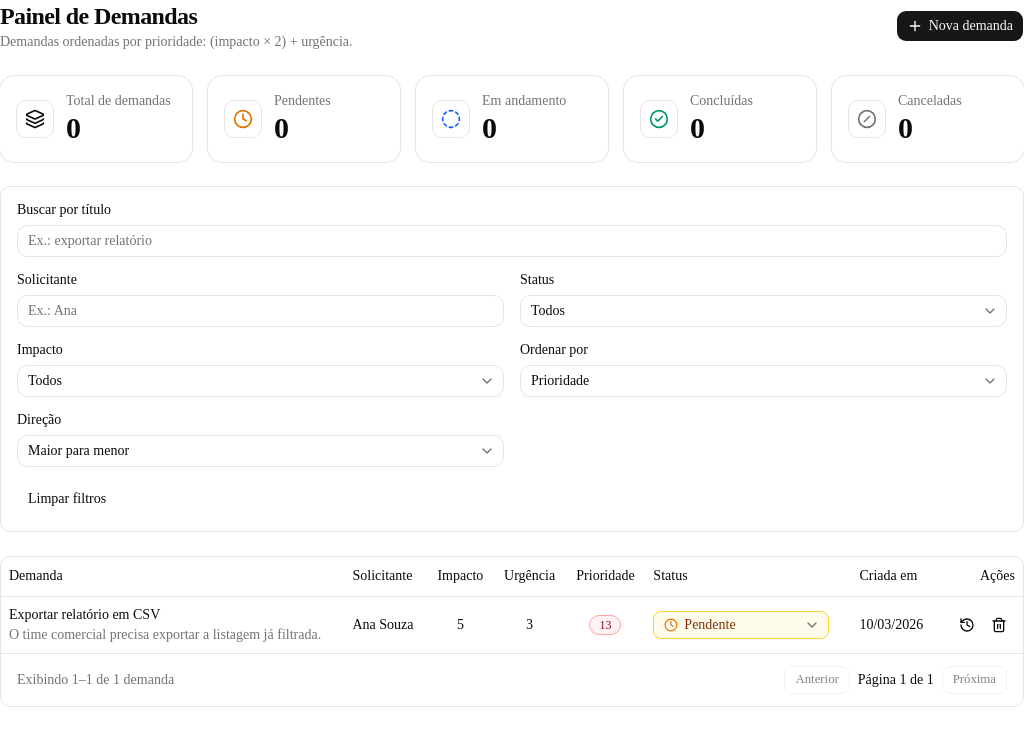
Test: DemandsPanel › remove a linha da lista antes da resposta do servidor
The width and height of the screenshot is (1024, 753).
What coordinates should you click on to do the following:
click the button named "Remover demanda"
I would click on:
 (999, 625)
Its box is [983,609,1015,641].
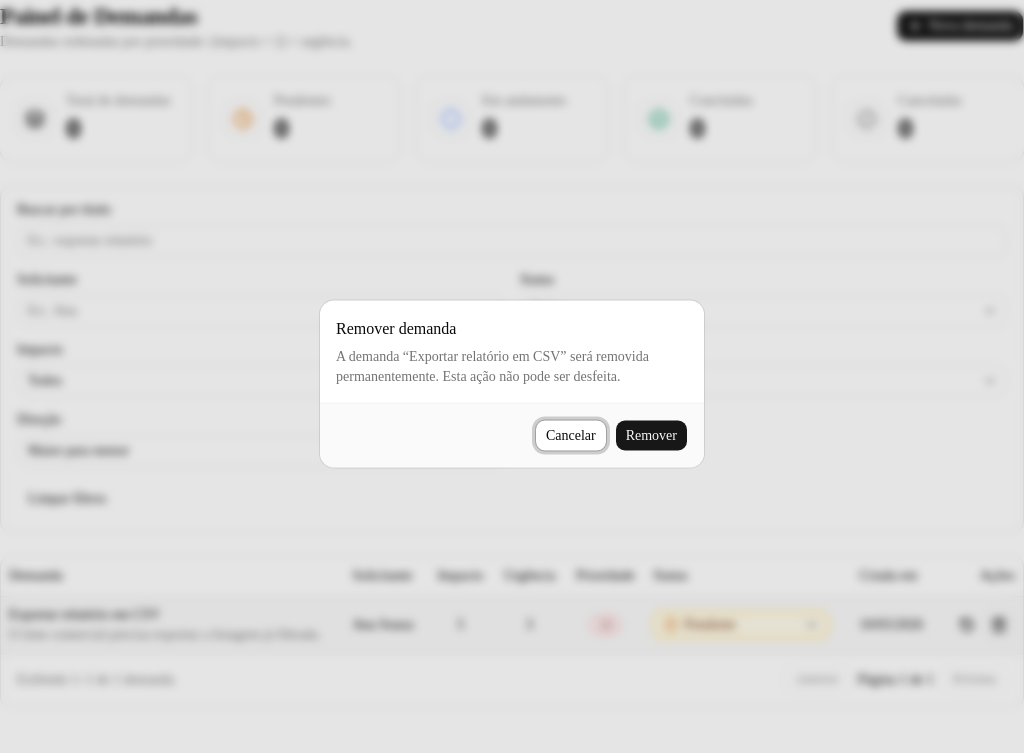
What coordinates should you click on to do the following:
click the button "Remover"
I would click on:
 (651, 436)
Its box is [615,420,688,452].
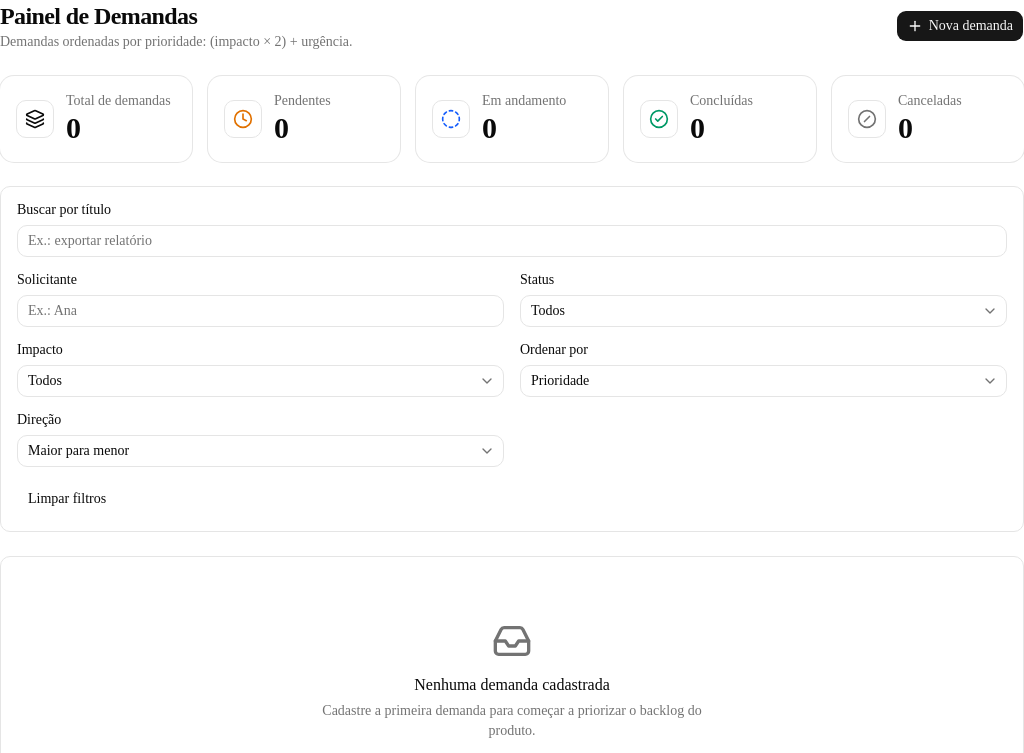
Expected: the text "Exportar relatório em CSV" is gone
